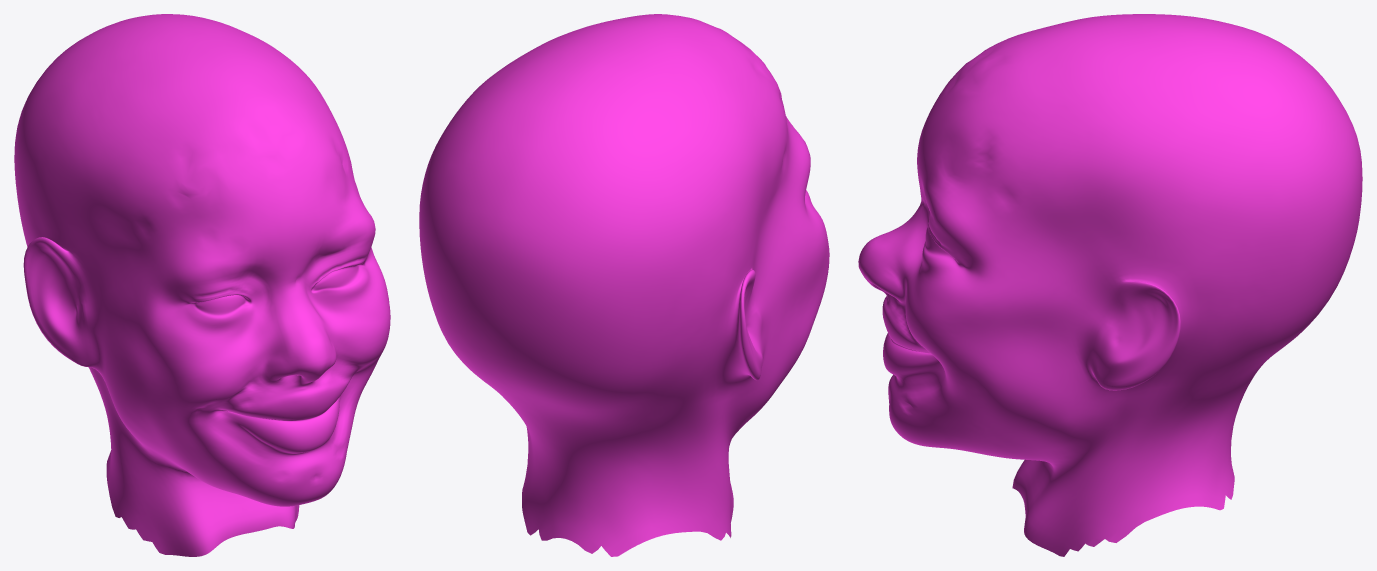
The model's file is head_pink.glb.
The picture shows the model from 3 angles, left to right: view 1: azimuth 30°, elevation 25°; view 2: azimuth 150°, elevation 25°; view 3: azimuth 270°, elevation 25°; orthographic projection. The views are drawn at different scales.
Parts seen in each view (by area): view 1: FaceBuilderHead.002; view 2: FaceBuilderHead.002; view 3: FaceBuilderHead.002.
Boxes of the visible parts, x1,y1,x2,y2 form: FaceBuilderHead.002: (14, 14, 390, 556); FaceBuilderHead.002: (419, 14, 829, 556); FaceBuilderHead.002: (858, 14, 1362, 556).
Size of the model in its own units: 1.96 by 2.91 by 2.69.
